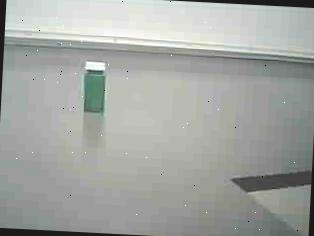Bottle C: (77, 56, 113, 120)
